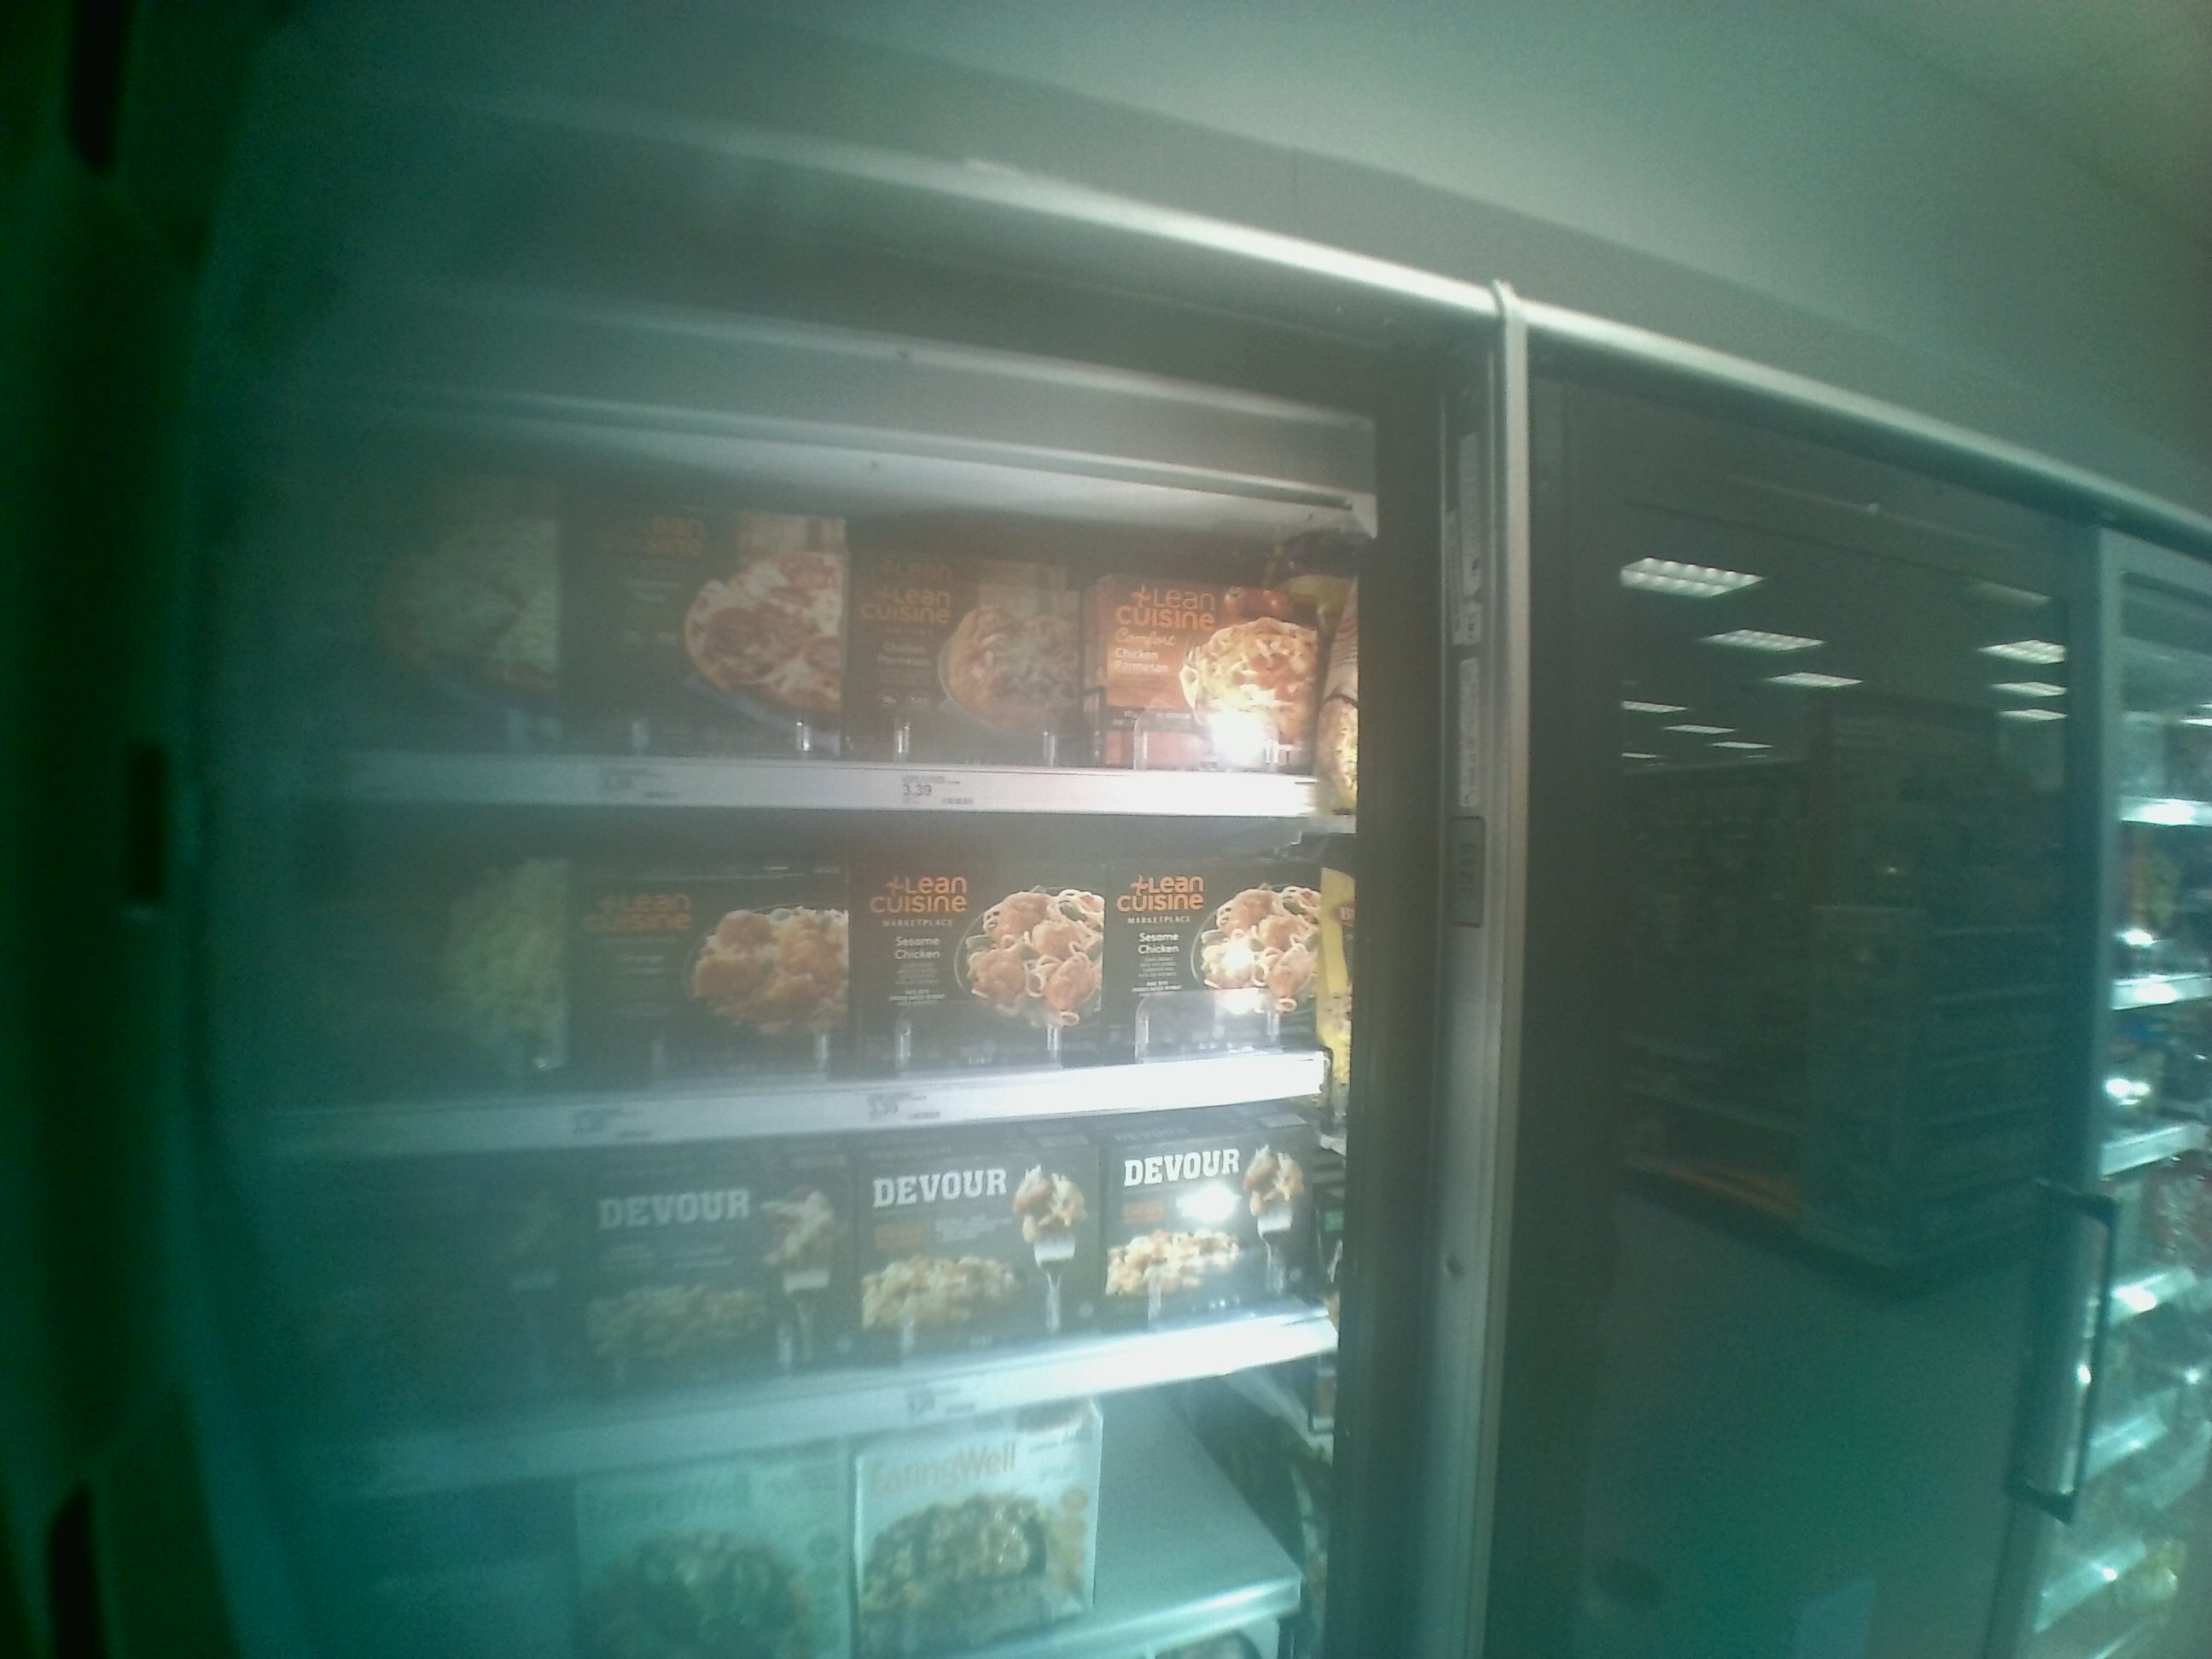shelf: (280, 376, 1327, 814), (254, 807, 1339, 1162)
